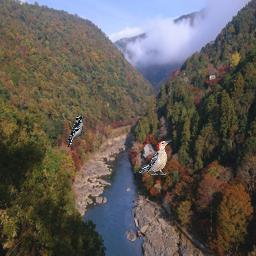Woodpecker: (133, 139, 173, 175), (67, 115, 86, 147)
